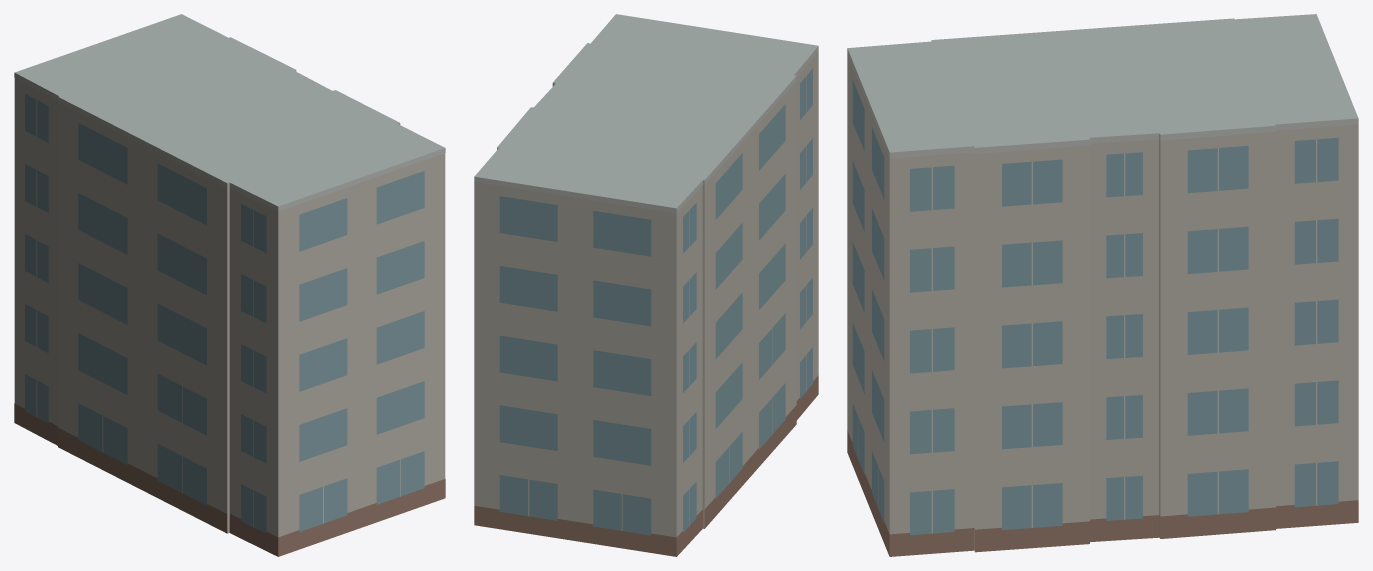
The model's file is survey-upis-32838976.glb.
3 renders of one model, left to right at view 1: azimuth 30°, elevation 25°; view 2: azimuth 150°, elevation 25°; view 3: azimuth 270°, elevation 25°, orthographic. The views are drawn at different scales.
Visible parts, largest first — view 1: survey-upis-32838976.tmp; view 2: survey-upis-32838976.tmp; view 3: survey-upis-32838976.tmp.
Part boxes in pixels (left/top/right/bottom): survey-upis-32838976.tmp: left=14, top=14, right=445, bottom=556; survey-upis-32838976.tmp: left=474, top=14, right=818, bottom=556; survey-upis-32838976.tmp: left=847, top=14, right=1358, bottom=556.
Bounding box in the file's own units: 12.15 × 16.52 × 18.94.
